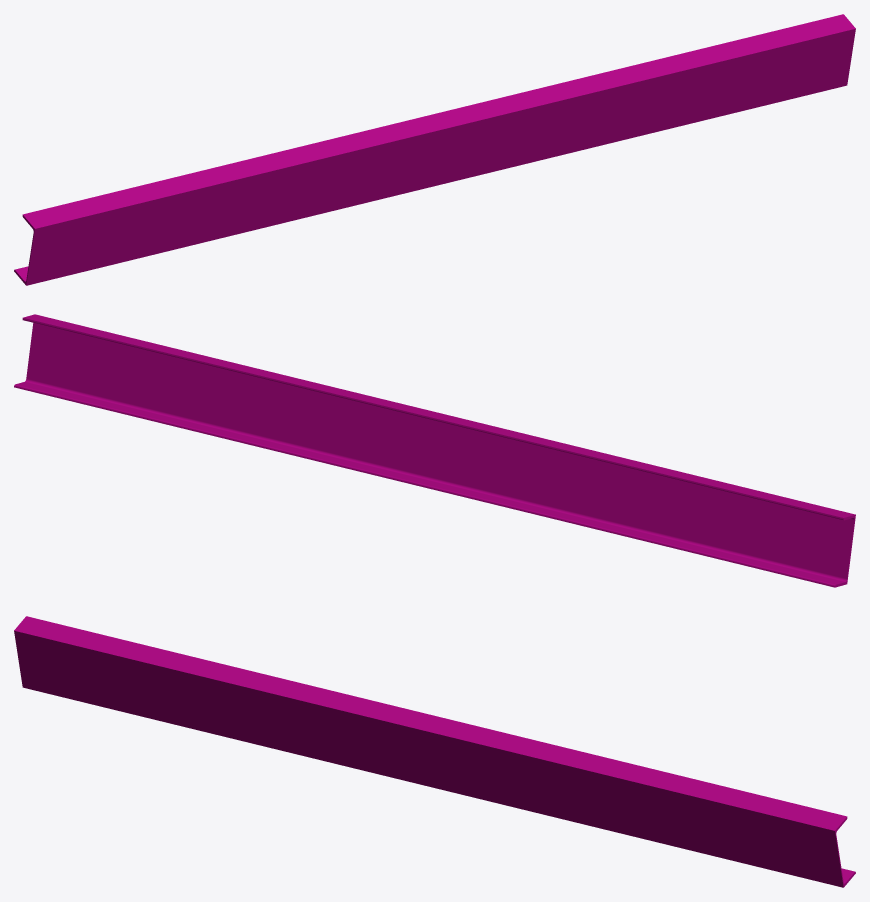
3 renders of one model, top to bottom at view 1: azimuth 30°, elevation 25°; view 2: azimuth 150°, elevation 25°; view 3: azimuth 330°, elevation 25°, orthographic.
Visible parts, largest first — view 1: 0x4BOgOX9AZRmgJNoG9AnH_h1253734; view 2: 0x4BOgOX9AZRmgJNoG9AnH_h1253734; view 3: 0x4BOgOX9AZRmgJNoG9AnH_h1253734.
Boxes of the visible parts, <box> form: 0x4BOgOX9AZRmgJNoG9AnH_h1253734: <box>14,14,855,285</box>; 0x4BOgOX9AZRmgJNoG9AnH_h1253734: <box>14,314,855,587</box>; 0x4BOgOX9AZRmgJNoG9AnH_h1253734: <box>14,616,855,887</box>.
Size of the model in its own units: 3.56 by 0.285 by 0.1576.
